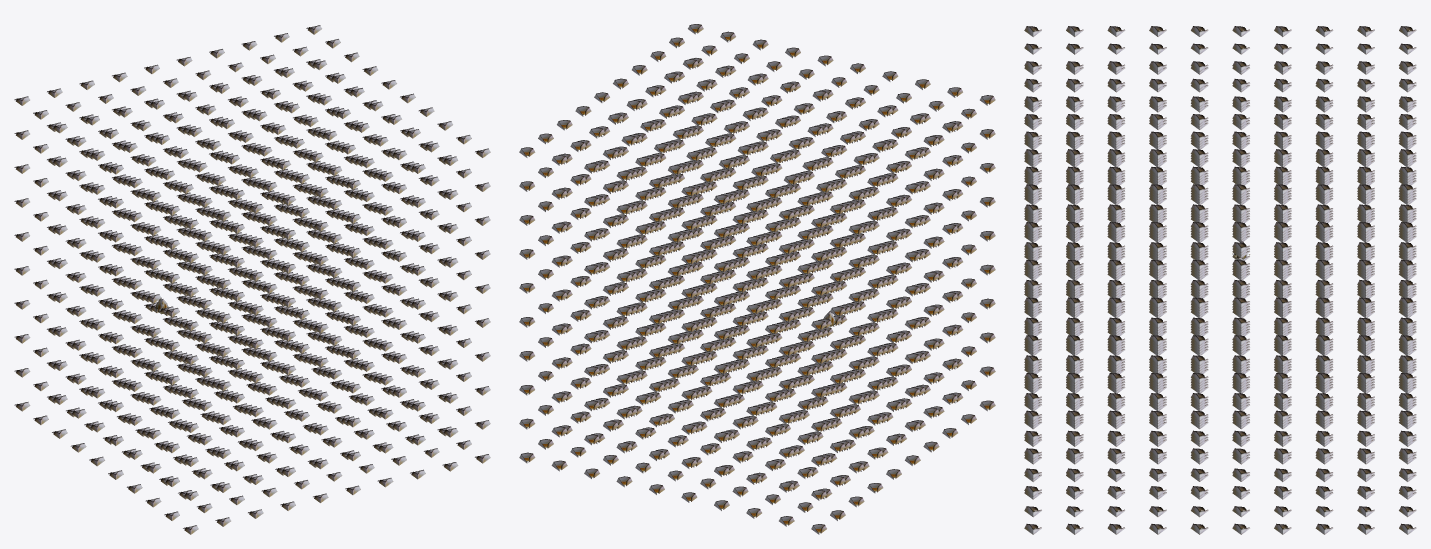
The model's file is triangles-fewer-unity.fbx.
3 renders of one model, left to right at view 1: azimuth 30°, elevation 25°; view 2: azimuth 150°, elevation 25°; view 3: azimuth 270°, elevation 25°, orthographic. The views are drawn at different scales.
Size of the model in its own units: 18.75 by 19 by 18.87.
1 material, 1 textured.
